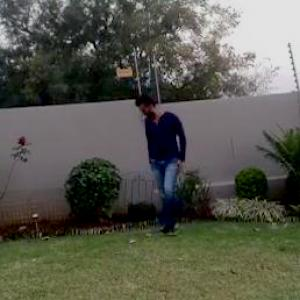follow: (142, 88, 191, 241)
